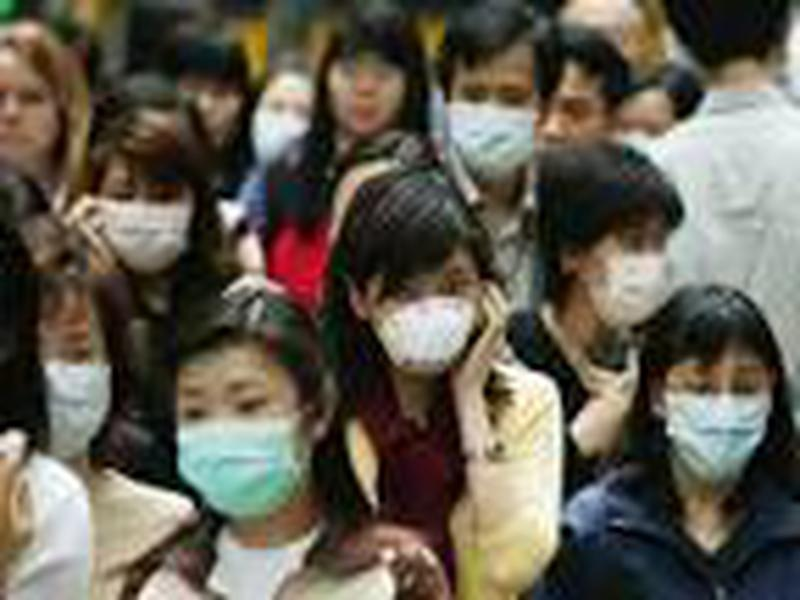with_mask: (339, 171, 485, 378), (541, 142, 685, 338), (162, 336, 312, 524), (643, 284, 776, 490), (437, 5, 560, 176), (39, 280, 112, 465), (93, 149, 193, 274)
without_mask: (1, 44, 68, 163), (331, 42, 410, 132)
